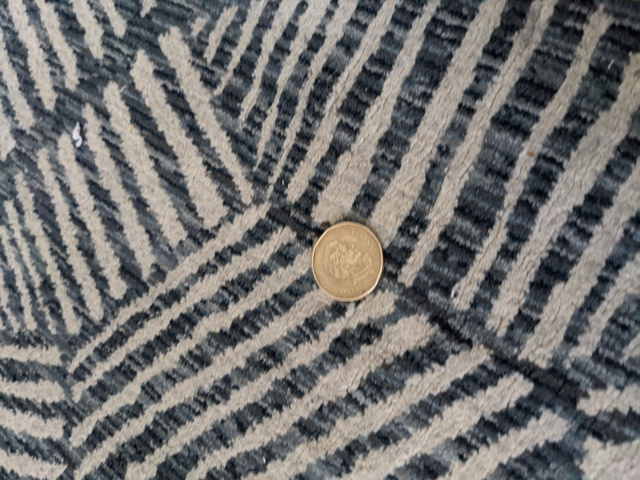loonie: (304, 213, 390, 306)
